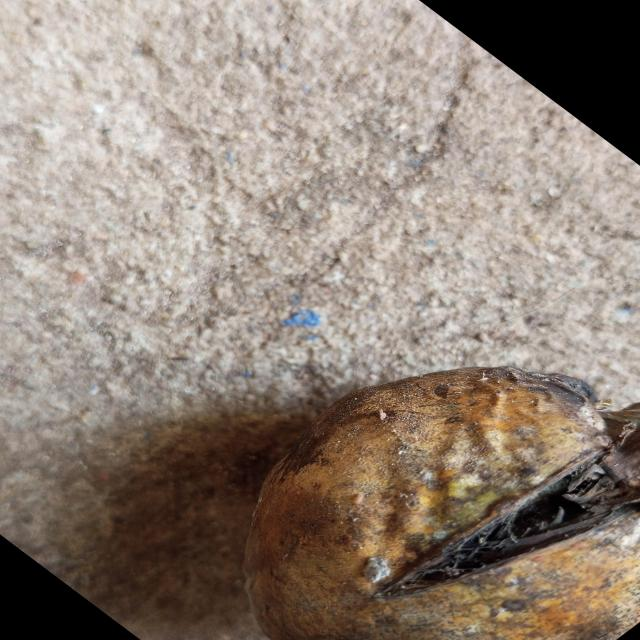damaged: (246, 368, 640, 640)
